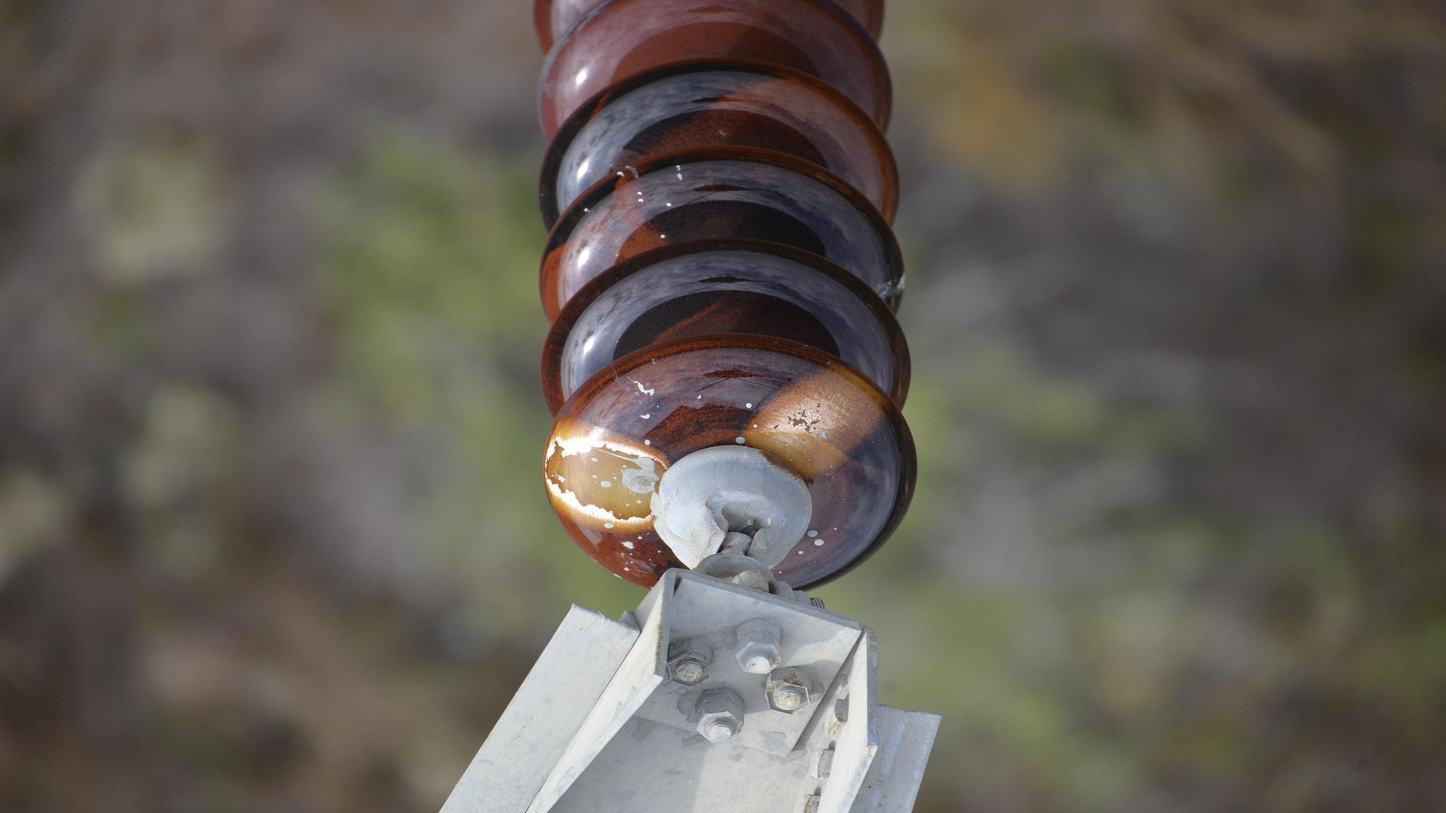insulator: (522, 1, 924, 592)
insulator_flashover: (737, 360, 891, 482), (538, 412, 670, 533)
